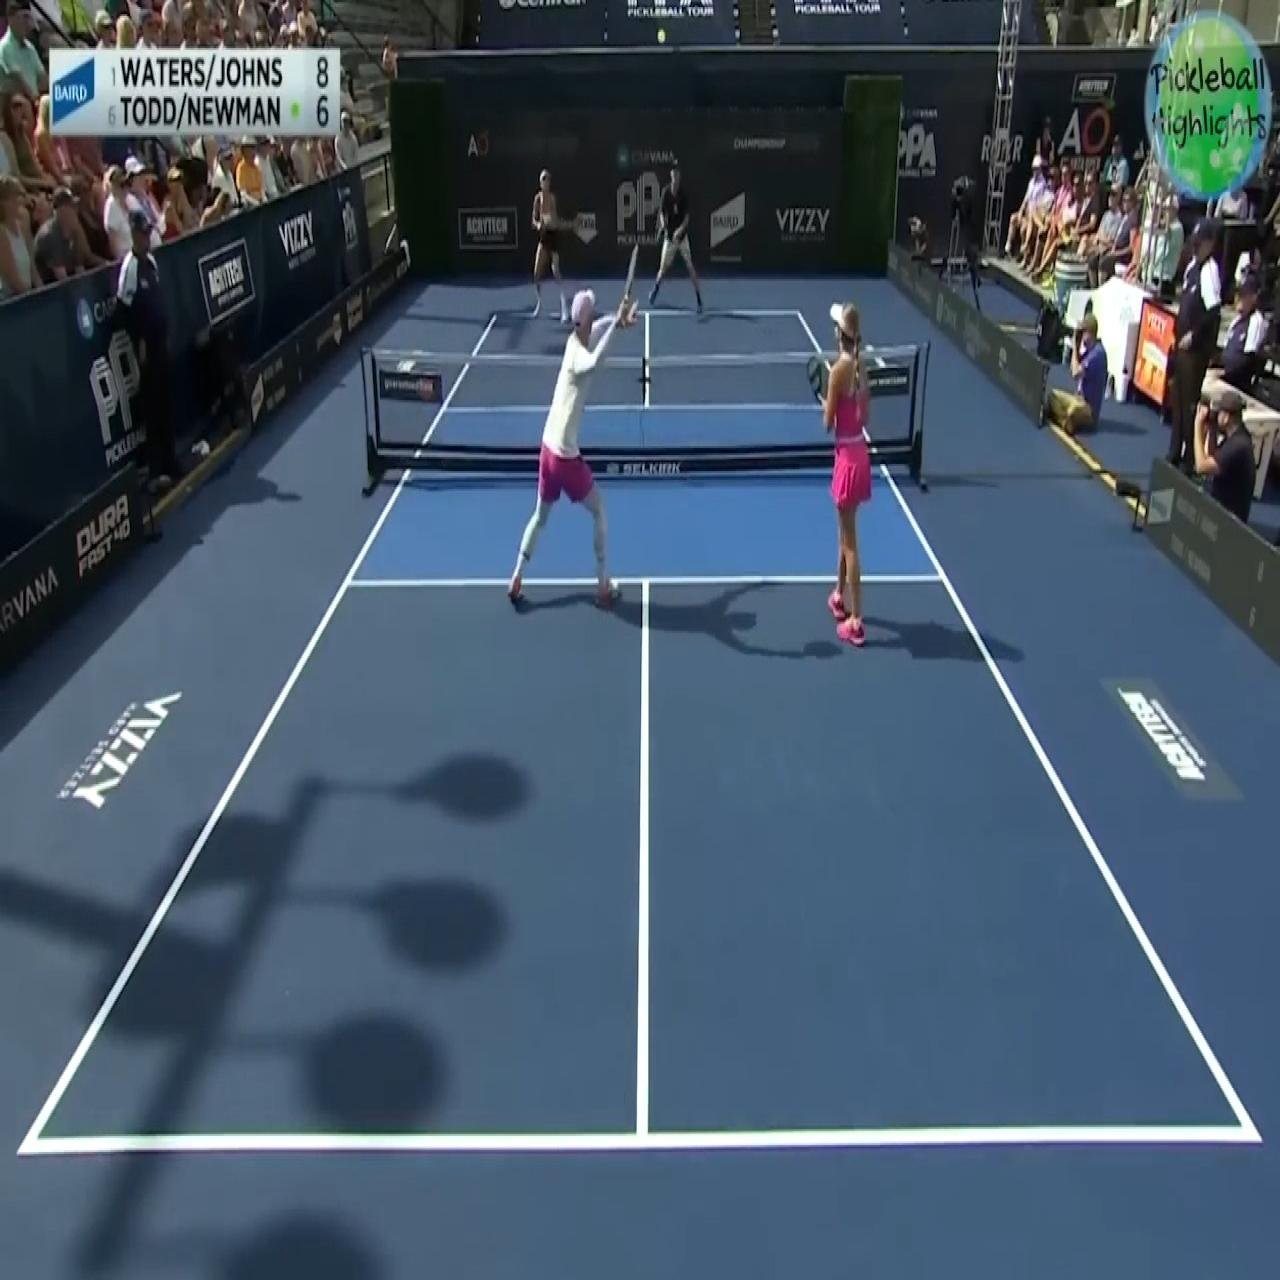Pickleball: (656, 27, 668, 48)
